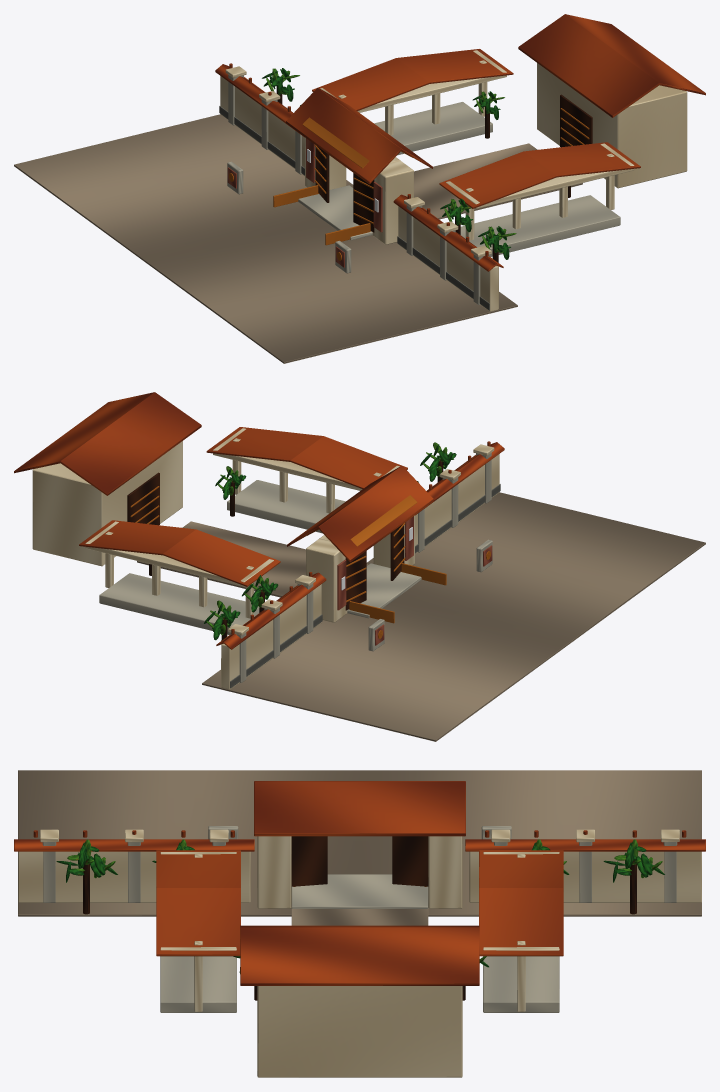
The model's file is HNP_Map007_TempleApproach_LOD1_v003.fbx.
The picture shows the model from 3 angles, top to bottom: view 1: azimuth 30°, elevation 25°; view 2: azimuth 150°, elevation 25°; view 3: azimuth 270°, elevation 25°; orthographic projection. The views are drawn at different scales.
Visible parts, largest first — view 1: MAP007_APPROACH_LOD1_S-1_MAT_Forecourt_Paver, MAP007_APPROACH_LOD1_S1_MAT_Terracotta_Roof, MAP007_APPROACH_LOD1_S1_MAT_Station_WarmPlaster, MAP007_APPROACH_LOD1_S0_MAT_Station_WarmPlaster, MAP007_APPROACH_LOD1_S1_MAT_Concrete_Light, MAP007_APPROACH_LOD1_S0_MAT_Terracotta_Roof, MAP007_APPROACH_LOD1_S0_MAT_Concrete_Light, MAP007_APPROACH_LOD1_S1_MAT_Forecourt_Paver, MAP007_APPROACH_LOD1_S0_MAT_Warm_Brass, MAP007_APPROACH_LOD1_S0_MAT_Aged_Timber, MAP007_APPROACH_LOD1_S0_MAT_Broadleaf, MAP007_APPROACH_LOD1_S1_MAT_Aged_Timber (+3 smaller); view 2: MAP007_APPROACH_LOD1_S-1_MAT_Forecourt_Paver, MAP007_APPROACH_LOD1_S1_MAT_Terracotta_Roof, MAP007_APPROACH_LOD1_S1_MAT_Station_WarmPlaster, MAP007_APPROACH_LOD1_S0_MAT_Station_WarmPlaster, MAP007_APPROACH_LOD1_S1_MAT_Concrete_Light, MAP007_APPROACH_LOD1_S0_MAT_Terracotta_Roof, MAP007_APPROACH_LOD1_S0_MAT_Concrete_Light, MAP007_APPROACH_LOD1_S1_MAT_Forecourt_Paver, MAP007_APPROACH_LOD1_S0_MAT_Warm_Brass, MAP007_APPROACH_LOD1_S0_MAT_Aged_Timber, MAP007_APPROACH_LOD1_S0_MAT_Broadleaf, MAP007_APPROACH_LOD1_S1_MAT_Aged_Timber (+3 smaller); view 3: MAP007_APPROACH_LOD1_S-1_MAT_Forecourt_Paver, MAP007_APPROACH_LOD1_S1_MAT_Terracotta_Roof, MAP007_APPROACH_LOD1_S1_MAT_Station_WarmPlaster, MAP007_APPROACH_LOD1_S0_MAT_Station_WarmPlaster, MAP007_APPROACH_LOD1_S0_MAT_Terracotta_Roof, MAP007_APPROACH_LOD1_S1_MAT_Concrete_Light, MAP007_APPROACH_LOD1_S0_MAT_Concrete_Light, MAP007_APPROACH_LOD1_S0_MAT_Aged_Timber, MAP007_APPROACH_LOD1_S1_MAT_Forecourt_Paver, MAP007_APPROACH_LOD1_S0_MAT_Broadleaf, MAP007_APPROACH_LOD1_S0_MAT_Leaf_Sunlit, MAP007_APPROACH_LOD1_S0_MAT_Bark.
Part boxes in pixels (box(x1,y1,x2,y2)): MAP007_APPROACH_LOD1_S-1_MAT_Forecourt_Paver: box(14, 114, 517, 363); MAP007_APPROACH_LOD1_S1_MAT_Terracotta_Roof: box(312, 14, 705, 208); MAP007_APPROACH_LOD1_S1_MAT_Station_WarmPlaster: box(320, 50, 687, 217); MAP007_APPROACH_LOD1_S0_MAT_Station_WarmPlaster: box(220, 66, 520, 311); MAP007_APPROACH_LOD1_S1_MAT_Concrete_Light: box(374, 102, 620, 256); MAP007_APPROACH_LOD1_S0_MAT_Terracotta_Roof: box(215, 63, 503, 271); MAP007_APPROACH_LOD1_S0_MAT_Concrete_Light: box(227, 75, 489, 304); MAP007_APPROACH_LOD1_S1_MAT_Forecourt_Paver: box(351, 143, 582, 219); MAP007_APPROACH_LOD1_S0_MAT_Warm_Brass: box(229, 117, 412, 260); MAP007_APPROACH_LOD1_S0_MAT_Aged_Timber: box(315, 146, 374, 232); MAP007_APPROACH_LOD1_S0_MAT_Broadleaf: box(262, 68, 510, 259); MAP007_APPROACH_LOD1_S1_MAT_Aged_Timber: box(560, 94, 592, 147); MAP007_APPROACH_LOD1_S-1_MAT_Forecourt_Paver: box(202, 492, 705, 741); MAP007_APPROACH_LOD1_S1_MAT_Terracotta_Roof: box(14, 392, 407, 586); MAP007_APPROACH_LOD1_S1_MAT_Station_WarmPlaster: box(32, 428, 399, 595); MAP007_APPROACH_LOD1_S0_MAT_Station_WarmPlaster: box(199, 444, 499, 689); MAP007_APPROACH_LOD1_S1_MAT_Concrete_Light: box(99, 480, 345, 634); MAP007_APPROACH_LOD1_S0_MAT_Terracotta_Roof: box(216, 441, 504, 649); MAP007_APPROACH_LOD1_S0_MAT_Concrete_Light: box(230, 453, 492, 682); MAP007_APPROACH_LOD1_S1_MAT_Forecourt_Paver: box(137, 521, 368, 597); MAP007_APPROACH_LOD1_S0_MAT_Warm_Brass: box(307, 495, 490, 638); MAP007_APPROACH_LOD1_S0_MAT_Aged_Timber: box(345, 524, 404, 610); MAP007_APPROACH_LOD1_S0_MAT_Broadleaf: box(204, 444, 456, 640); MAP007_APPROACH_LOD1_S1_MAT_Aged_Timber: box(127, 472, 159, 525); MAP007_APPROACH_LOD1_S-1_MAT_Forecourt_Paver: box(18, 770, 701, 916); MAP007_APPROACH_LOD1_S1_MAT_Terracotta_Roof: box(156, 850, 563, 985); MAP007_APPROACH_LOD1_S1_MAT_Station_WarmPlaster: box(160, 852, 559, 1077); MAP007_APPROACH_LOD1_S0_MAT_Station_WarmPlaster: box(18, 829, 701, 908); MAP007_APPROACH_LOD1_S0_MAT_Terracotta_Roof: box(14, 781, 705, 851); MAP007_APPROACH_LOD1_S1_MAT_Concrete_Light: box(160, 956, 559, 1012); MAP007_APPROACH_LOD1_S0_MAT_Concrete_Light: box(42, 826, 677, 908); MAP007_APPROACH_LOD1_S0_MAT_Aged_Timber: box(291, 836, 428, 886); MAP007_APPROACH_LOD1_S1_MAT_Forecourt_Paver: box(291, 909, 428, 925); MAP007_APPROACH_LOD1_S0_MAT_Broadleaf: box(56, 842, 664, 882); MAP007_APPROACH_LOD1_S0_MAT_Leaf_Sunlit: box(67, 839, 662, 878); MAP007_APPROACH_LOD1_S0_MAT_Bark: box(83, 861, 636, 914).
Bounding box in the file's own units: 5450 × 1058 × 5060.
